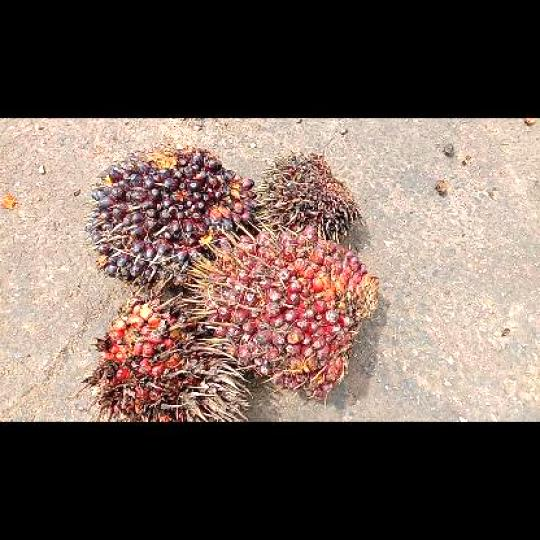kurang masak: (86, 143, 257, 291)
masak: (193, 224, 381, 398)
terlalu masak: (88, 294, 255, 420)
